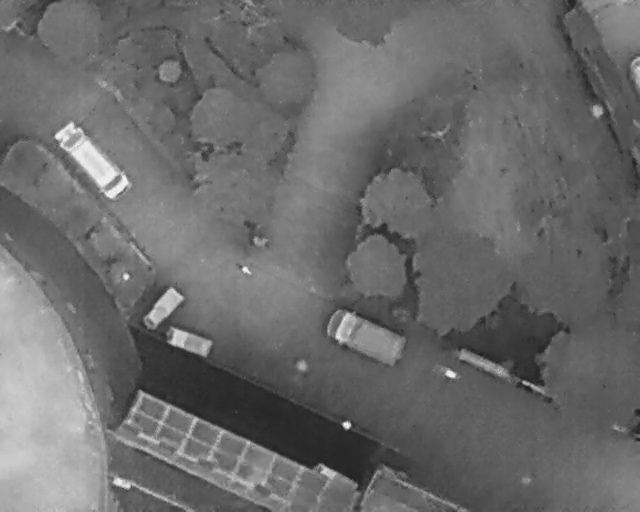OtherVehicle: (49, 117, 134, 204), (321, 305, 413, 370), (139, 285, 186, 333), (162, 324, 213, 361)
Person: (235, 261, 254, 281)
